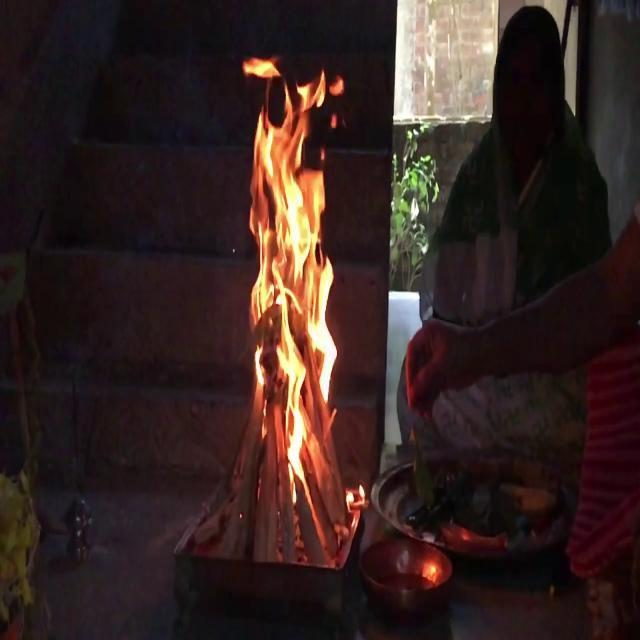Fire: (228, 61, 345, 481)
